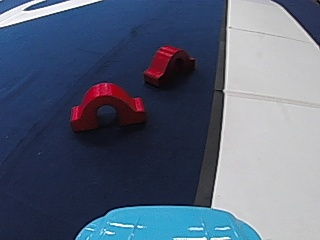bridge: (65, 78, 148, 130), (142, 41, 196, 90)
